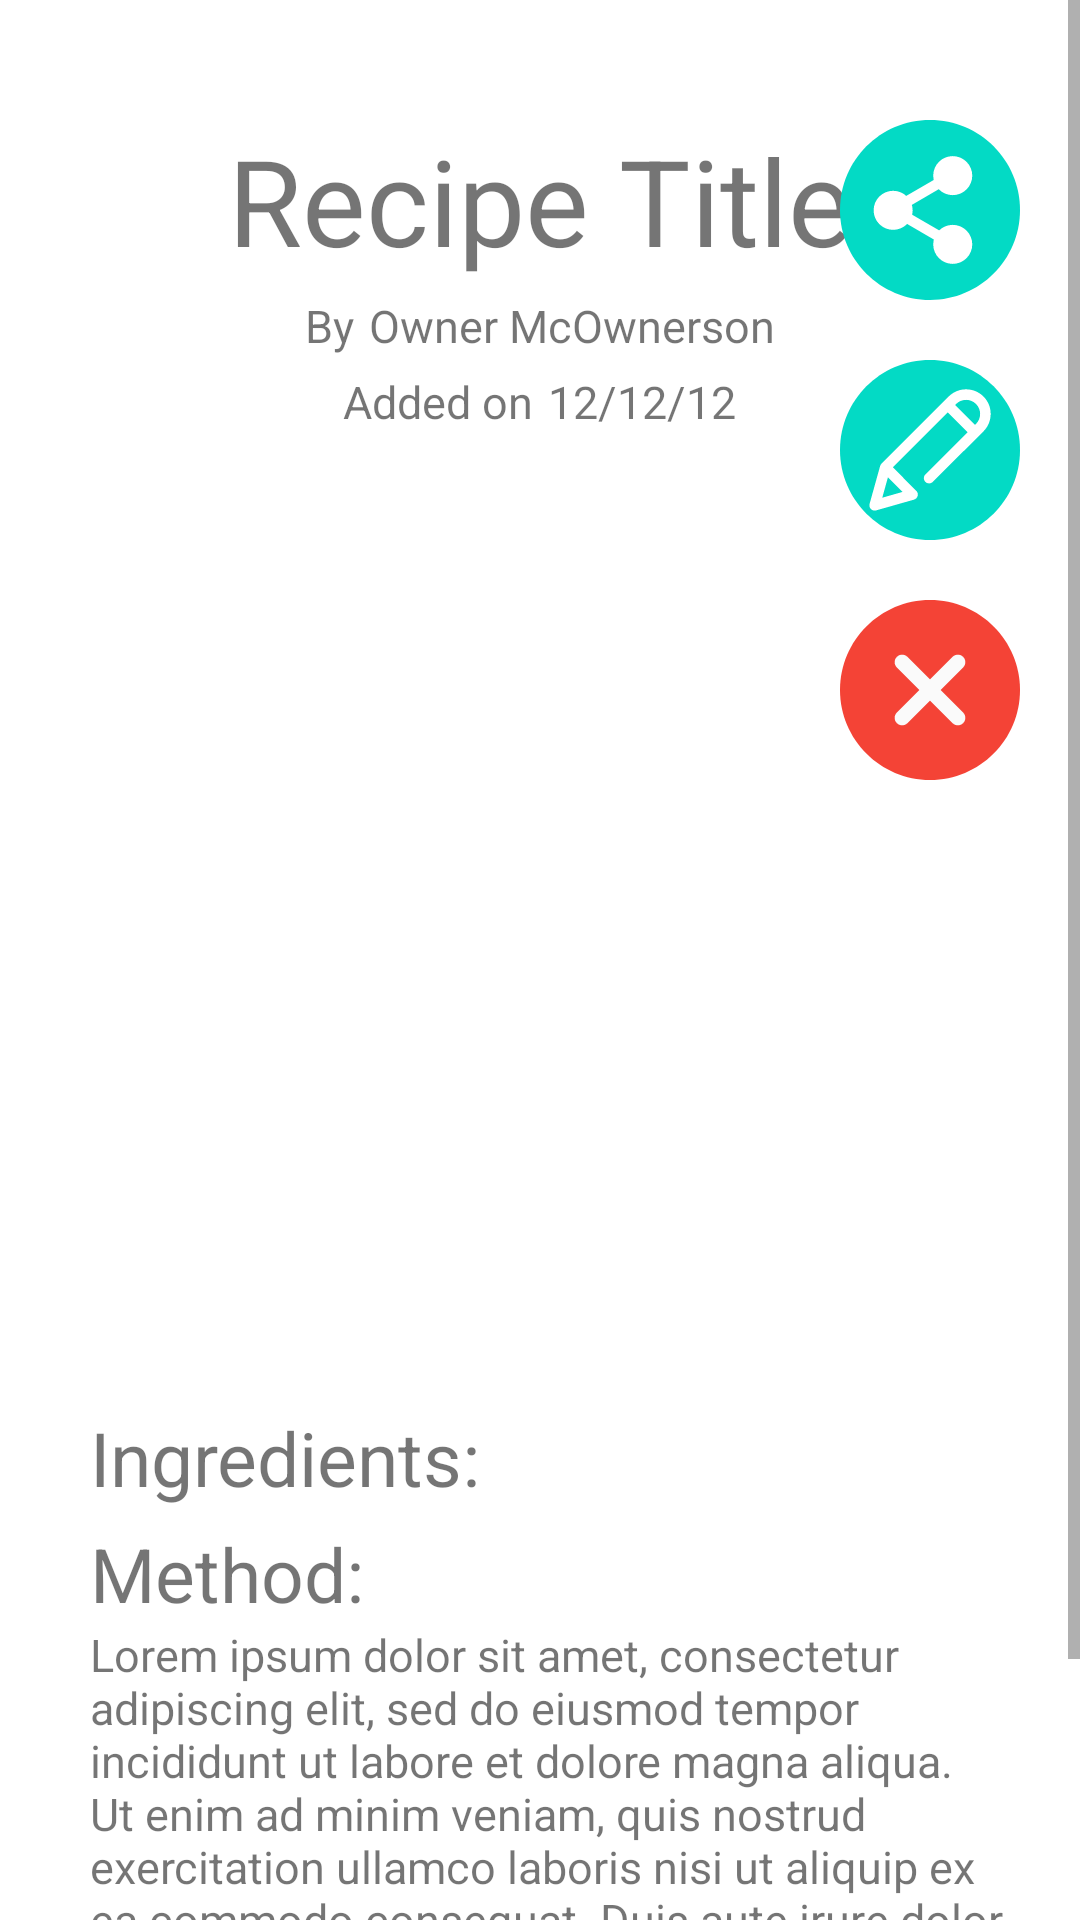

Icons on this 1080×1920 Android screen, each with the point to tap as [x,y]:
edit: [930,450]
remove: [930,690]
share: [930,210]
